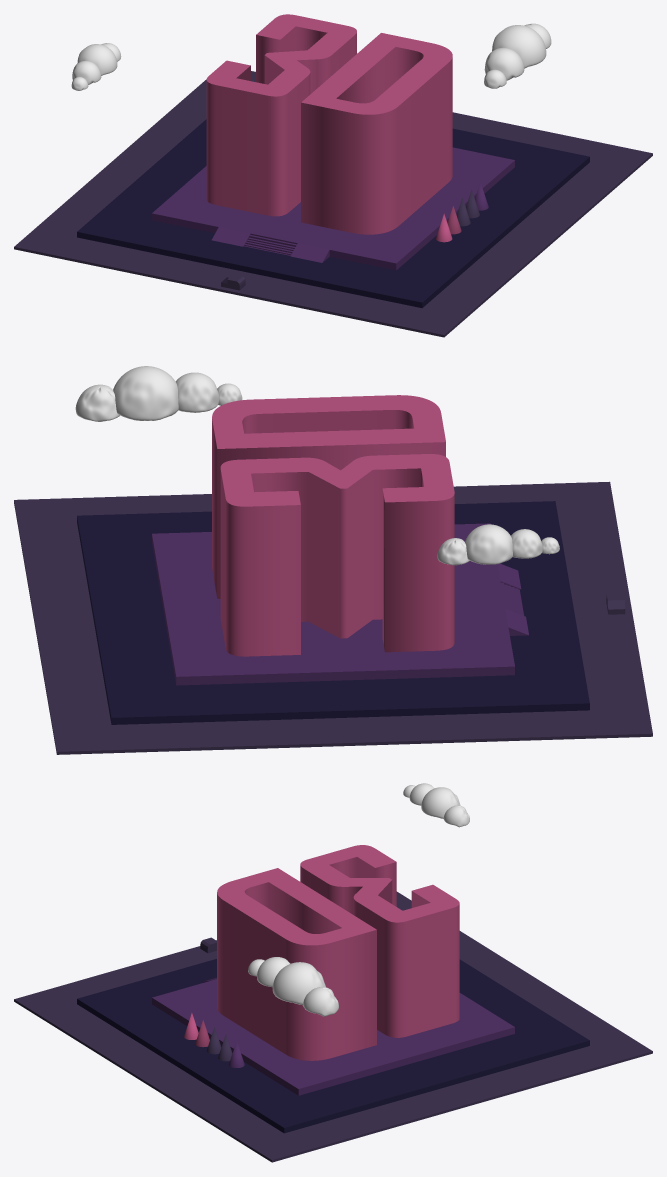
File: Finale-2.glb
The picture shows the model from 3 angles, top to bottom: view 1: azimuth 30°, elevation 25°; view 2: azimuth 150°, elevation 25°; view 3: azimuth 270°, elevation 25°; orthographic projection. The views are drawn at different scales.
Parts seen in each view (by area): view 1: Text, Plane.001, Plane, Plane.002, Sphere, Sphere.001; view 2: Text, Plane.001, Plane, Plane.002, Sphere, Sphere.001; view 3: Text, Plane.001, Plane, Plane.002, Sphere, Sphere.001.
Part boxes in pixels (left/top/right/bottom): Text: left=206, top=14, right=452, bottom=234; Plane.001: left=14, top=71, right=652, bottom=337; Plane: left=77, top=119, right=589, bottom=308; Plane.002: left=152, top=147, right=514, bottom=270; Sphere: left=484, top=23, right=551, bottom=88; Sphere.001: left=71, top=43, right=121, bottom=90; Text: left=212, top=395, right=454, bottom=656; Plane.001: left=14, top=481, right=652, bottom=754; Plane: left=77, top=501, right=589, bottom=724; Plane.002: left=152, top=523, right=528, bottom=685; Sphere: left=75, top=366, right=242, bottom=421; Sphere.001: left=437, top=524, right=559, bottom=565; Text: left=217, top=845, right=459, bottom=1060; Plane.001: left=14, top=891, right=652, bottom=1162; Plane: left=77, top=959, right=589, bottom=1133; Plane.002: left=152, top=977, right=514, bottom=1095; Sphere: left=248, top=957, right=338, bottom=1016; Sphere.001: left=403, top=783, right=469, bottom=827.
Size of the model in its own units: 4.34 by 1.15 by 4.34.
